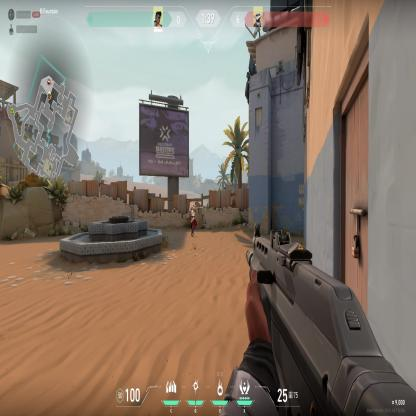enemy: (190, 202, 198, 238)
